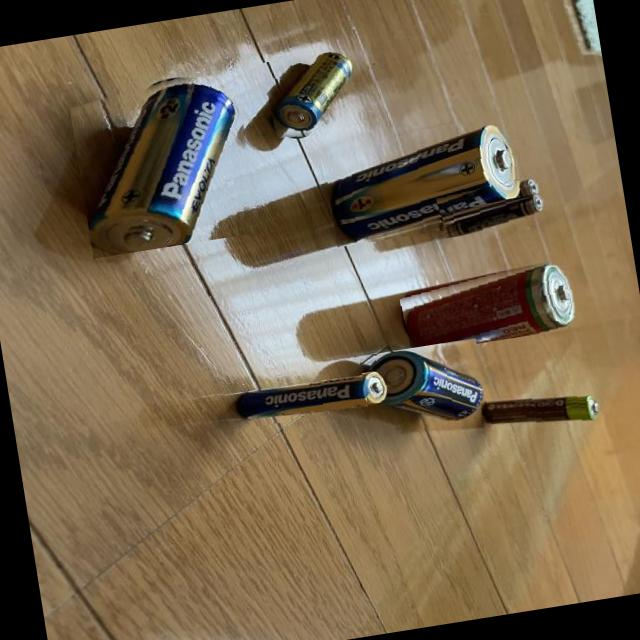Hazard: (66, 62, 266, 258), (322, 119, 530, 248), (396, 255, 577, 355), (358, 338, 488, 437), (222, 362, 392, 430), (259, 48, 369, 148), (479, 383, 604, 443), (434, 174, 547, 223), (440, 193, 549, 239)
